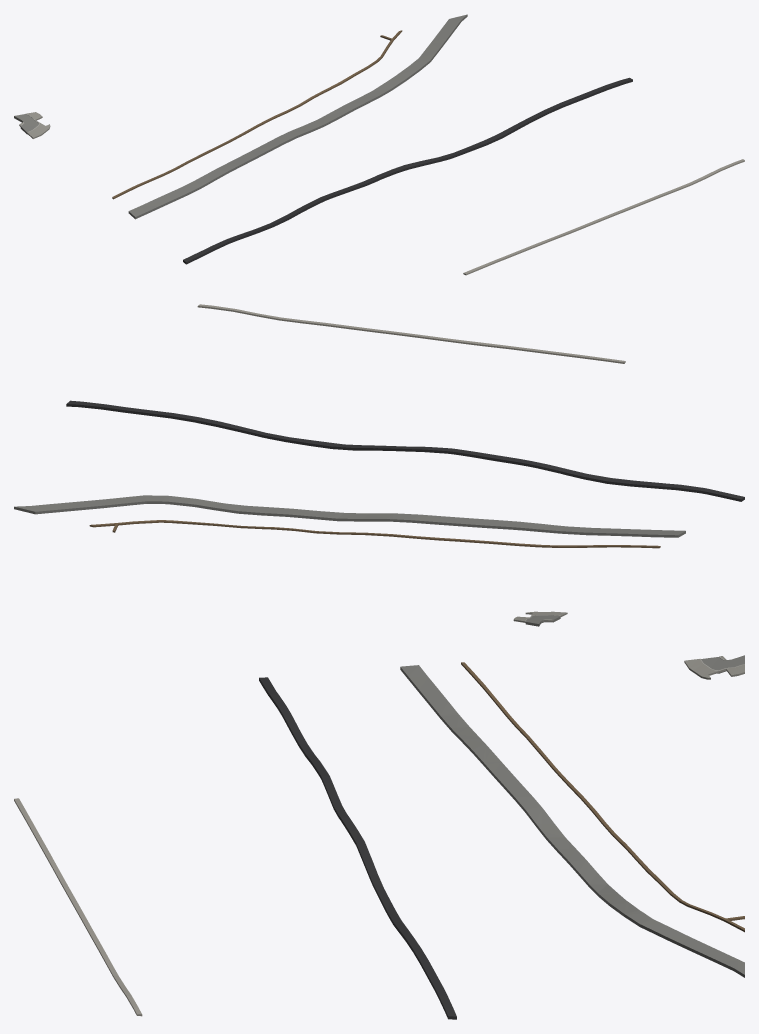
The picture shows the model from 3 angles, top to bottom: view 1: azimuth 30°, elevation 25°; view 2: azimuth 150°, elevation 25°; view 3: azimuth 270°, elevation 25°; orthographic projection. The views are drawn at different scales.
Bounding box in the file's own units: 293 × 10.8 × 260.
